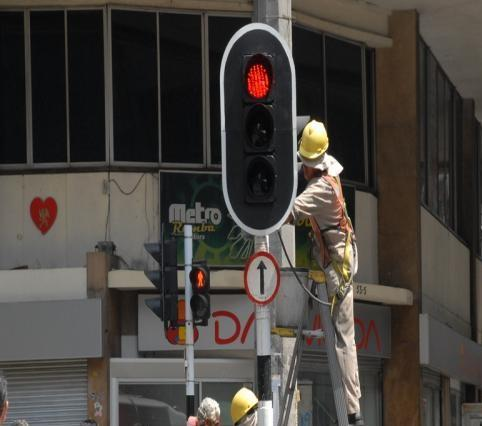red_light: (220, 21, 297, 235)
